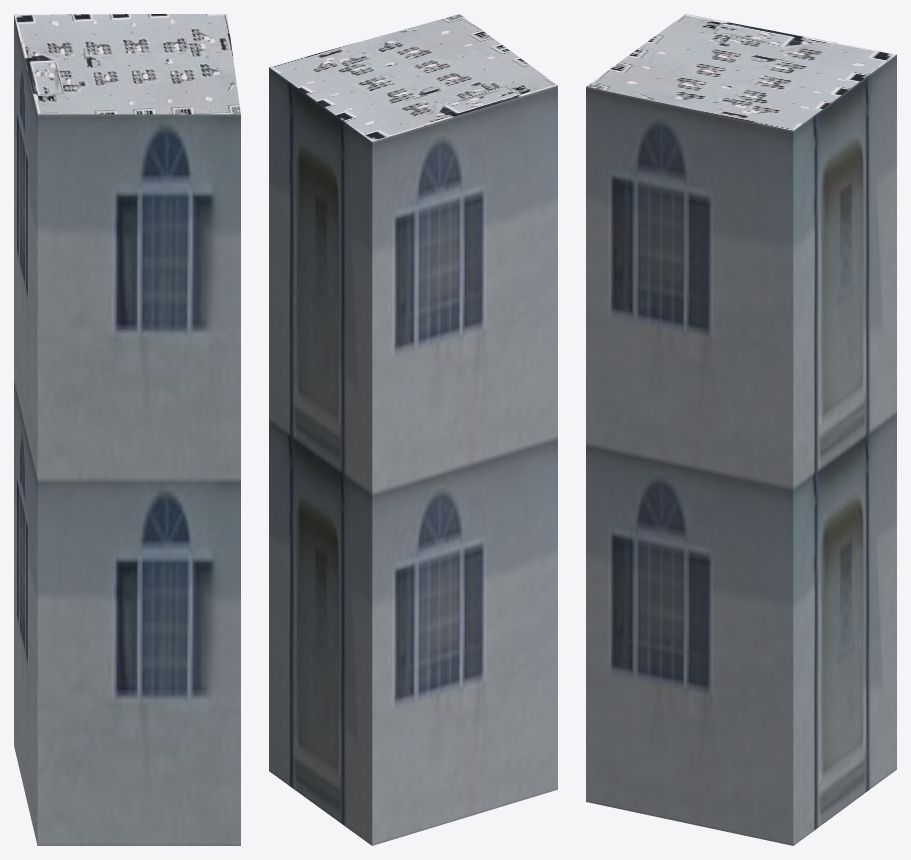
The model's file is ResTex__4937.fbx.
3 views of the same model, side by side, from view 1: azimuth 30°, elevation 25°; view 2: azimuth 150°, elevation 25°; view 3: azimuth 270°, elevation 25° (orthographic). The views are drawn at different scales.
Parts seen in each view (by area): view 1: CityEngineMaterial_17_m, CityEngineMaterial_2_m; view 2: CityEngineMaterial_17_m, CityEngineMaterial_2_m; view 3: CityEngineMaterial_17_m, CityEngineMaterial_2_m.
Part boxes in pixels (x1,y1,x2,y2): CityEngineMaterial_17_m: (14,15,240,845); CityEngineMaterial_2_m: (14,14,240,114); CityEngineMaterial_17_m: (269,67,557,845); CityEngineMaterial_2_m: (269,14,557,141); CityEngineMaterial_17_m: (586,54,896,845); CityEngineMaterial_2_m: (586,14,896,130).
Size of the model in its own units: 2.1 by 6 by 2.36.
Materials: 2 (2 with a texture image).
